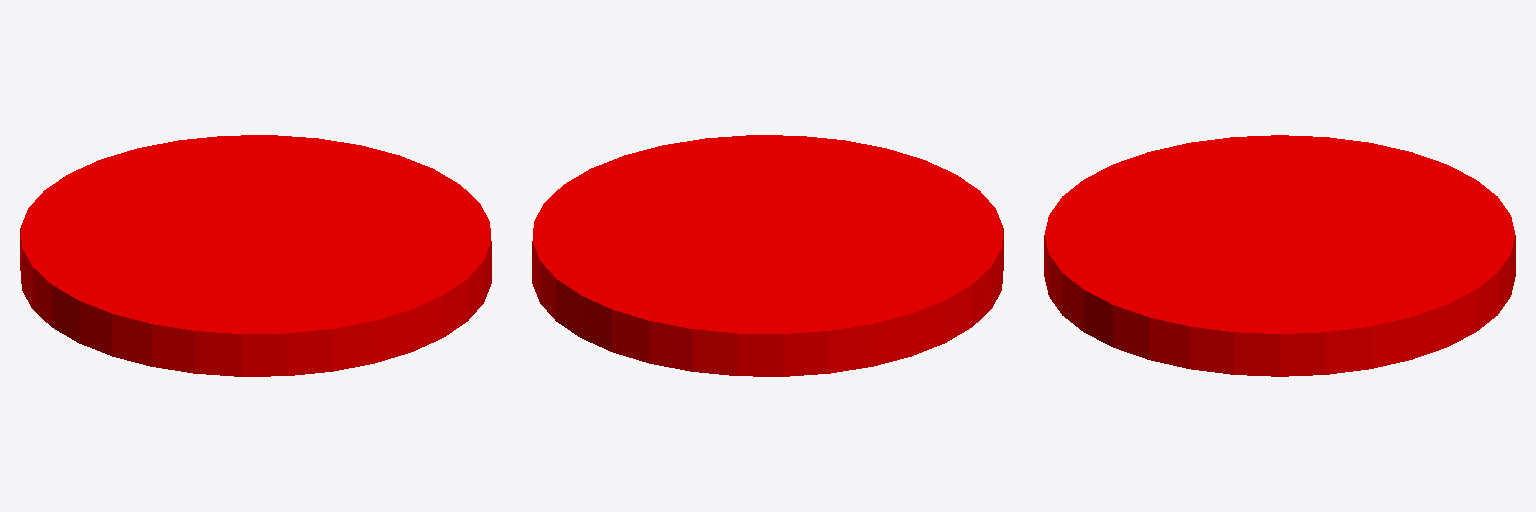
The robot description file, URDF, robot "perch_plate":
<?xml version="1.0"?>
<robot name="perch_plate">
  <link name="plate">
    <inertial>
      <mass value="0.1"/>
      <origin xyz="0 0 0" rpy="0 0 0"/>
      <inertia ixx="0.01" ixy="0.0" ixz="0.0" iyy="0.01" iyz="0.0" izz="0.01"/>
    </inertial>
    <visual>
      <origin xyz="0 0 0" rpy="0 0 0"/>
      <geometry>
        <cylinder radius="0.5" length="0.1"/>
      </geometry>
      <material name="red">
        <color rgba="1 0 0 1"/>
      </material>
    </visual>
    <collision>
      <origin xyz="0 0 0" rpy="0 0 0"/>
      <geometry>
        <cylinder radius="0.5" length="0.1"/>
      </geometry>
    </collision>
  </link>
</robot>

--- What the picture shows (computed from the rendered views, not written in the file) ---
Views: 3 orthographic renders of the robot side by side, from view 1: azimuth 30°, elevation 25°; view 2: azimuth 150°, elevation 25°; view 3: azimuth 270°, elevation 25°.
Model perch_plate with 1 links and 0 joints (none), rooted at plate, posed all joints at 0.
Visible links, largest first — view 1: plate; view 2: plate; view 3: plate.
Boxes of the visible links, bbox=[...] form: plate: bbox=[20, 135, 491, 376]; plate: bbox=[532, 135, 1003, 376]; plate: bbox=[1044, 135, 1515, 376].
Bounding box of the posed robot: 1 × 1 × 0.1 m (x, y, z).
Geometry: primitives only (box / cylinder / sphere), no mesh files.